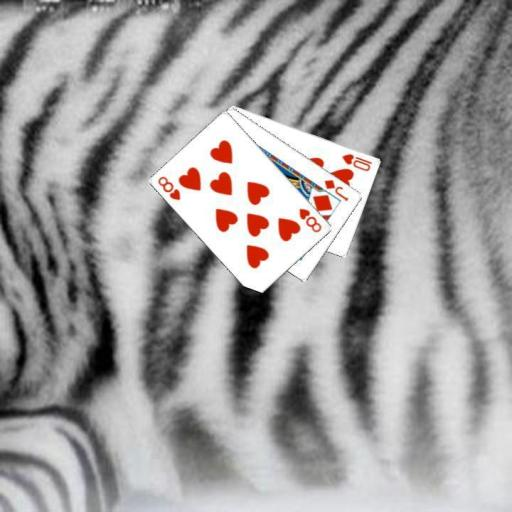card-corner: (296, 205, 323, 234), (155, 173, 182, 202), (322, 176, 350, 203), (340, 151, 374, 173)
